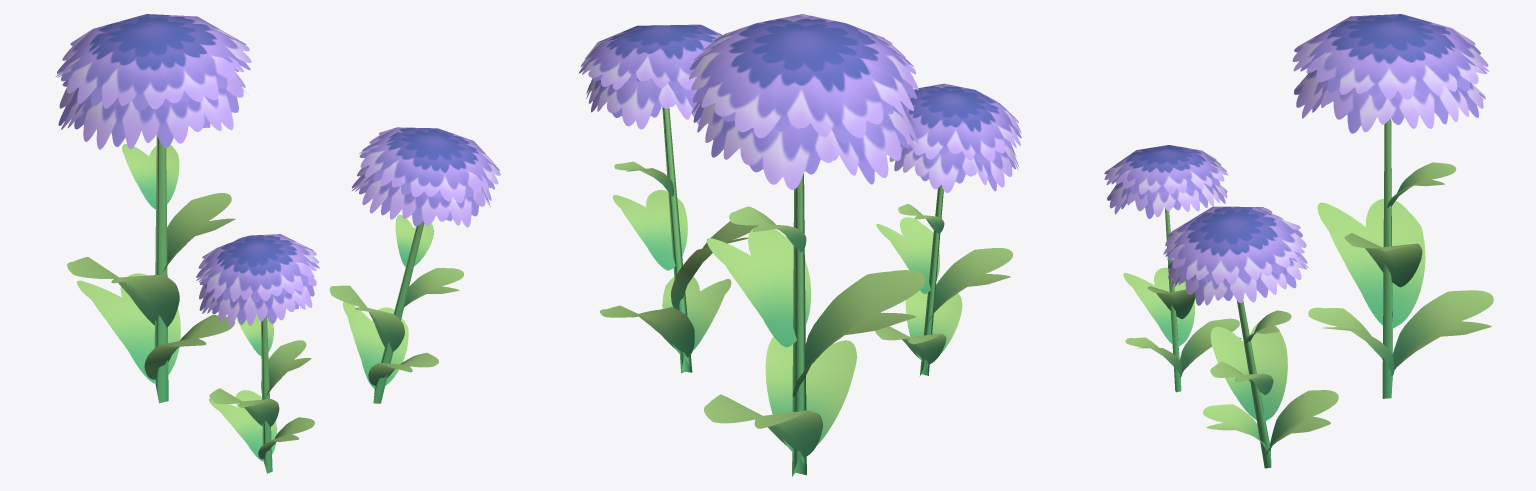
Rendered from flow33434er.fbx.
3 renders of one model, left to right at view 1: azimuth 30°, elevation 25°; view 2: azimuth 150°, elevation 25°; view 3: azimuth 270°, elevation 25°, orthographic. The views are drawn at different scales.
Visible parts, largest first — view 1: Untitled_Artwork (6).002; view 2: Untitled_Artwork (6).002; view 3: Untitled_Artwork (6).002.
Part boxes in pixels (bbox=[...]): Untitled_Artwork (6).002: bbox=[55, 14, 500, 473]; Untitled_Artwork (6).002: bbox=[579, 14, 1021, 476]; Untitled_Artwork (6).002: bbox=[1104, 14, 1493, 468].
Bounding box in the file's own units: 57.14 × 50.59 × 54.01.
